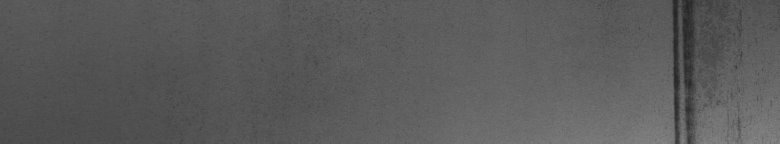hd: (664, 4, 752, 136)
